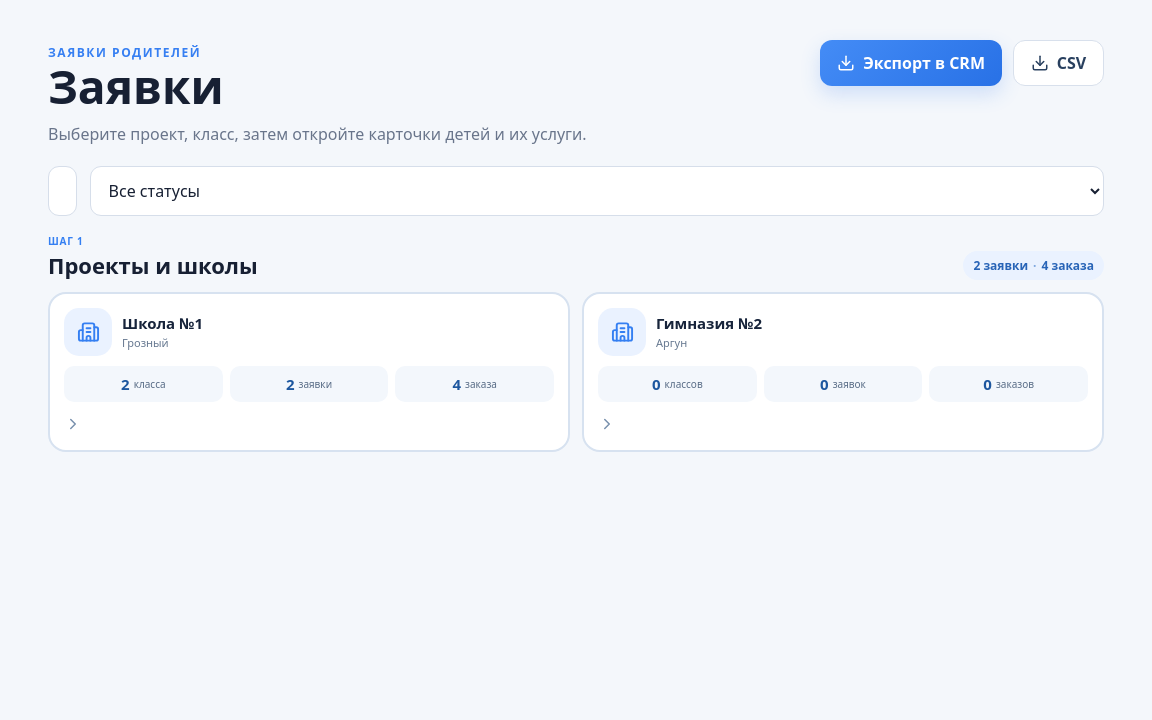
orders hierarchy › opens a project, its class, and child cards with selected services
Step 1. Click the button "Школа №1 Грозный 2 класса 2 заявки 4 заказа" → click(309, 372), box [48,292,570,452]
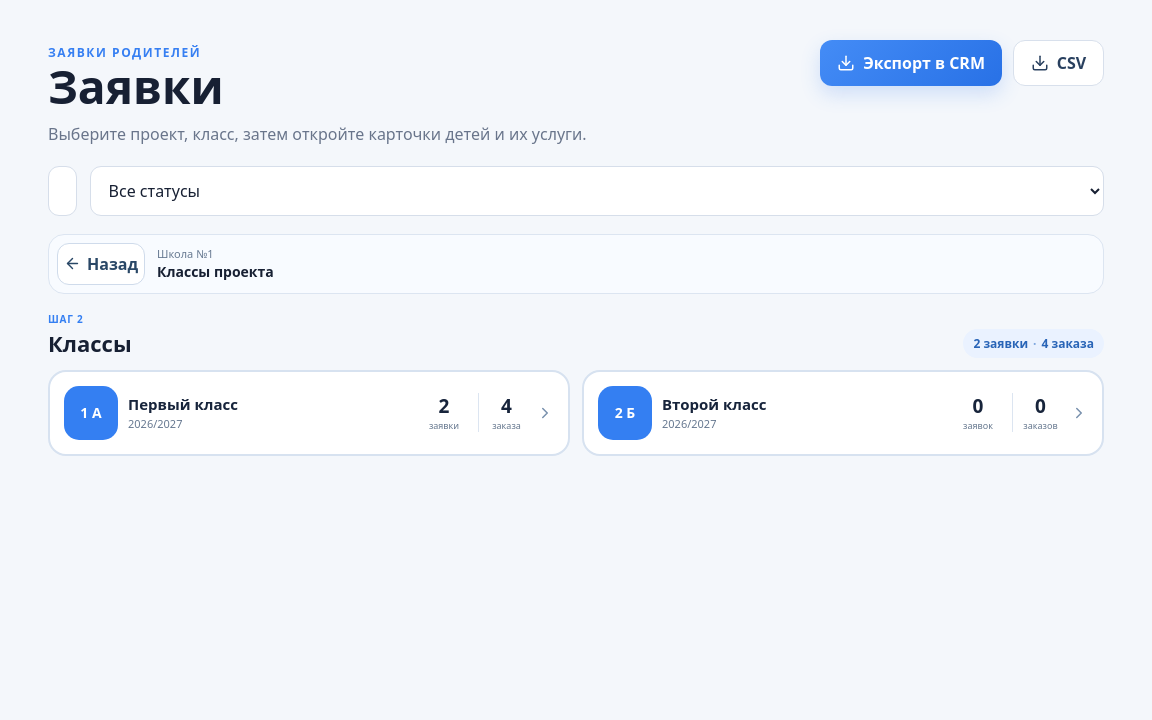
Expected: the heading "Классы" is shown, [48,328,132,358]
Step 2. Click the button "1 А Первый класс 2026/2027 2 заявки 4 заказа" → click(91, 413), box [48,370,570,456]
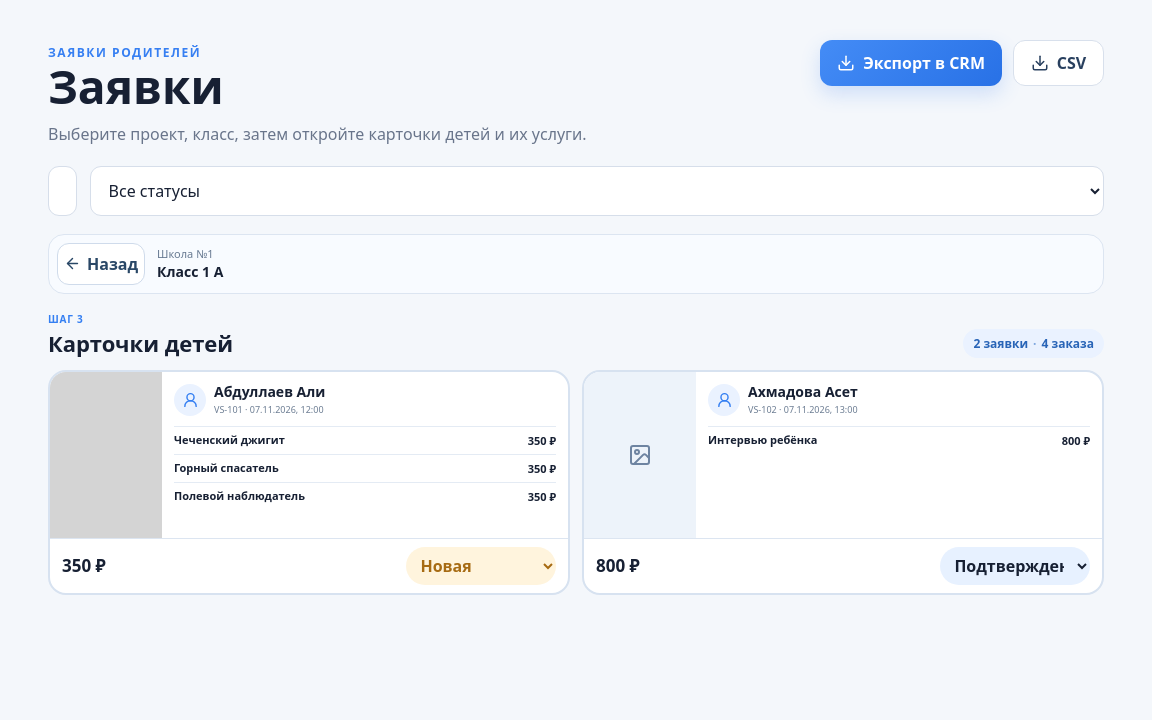
Expected: the heading "Карточки детей" is shown, [48,328,233,358]
Expected: the text "Абдуллаев Али" is shown, [214,384,325,401]
Expected: the text "Чеченский джигит" is shown, [174,432,285,447]
